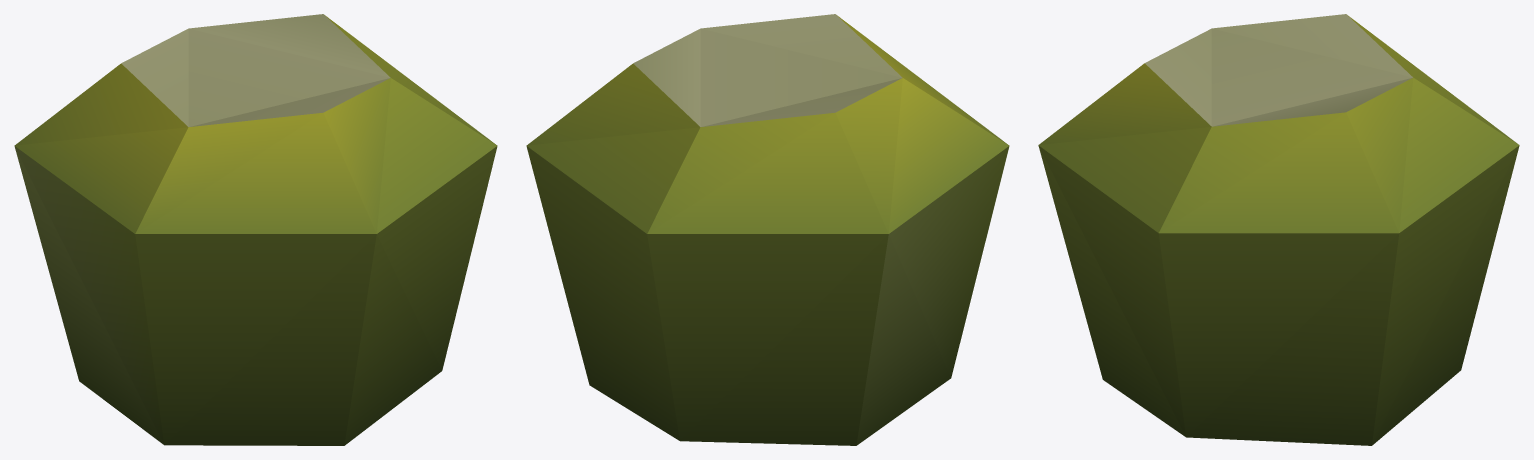
Rendered from Mixed_Cactus_09.fbx.
The picture shows the model from 3 angles, left to right: view 1: azimuth 30°, elevation 25°; view 2: azimuth 150°, elevation 25°; view 3: azimuth 270°, elevation 25°; orthographic projection.
Visible parts, largest first — view 1: Cactus_09.001; view 2: Cactus_09.001; view 3: Cactus_09.001.
Part boxes in pixels (left/top/right/bottom): Cactus_09.001: left=14, top=14, right=497, bottom=445; Cactus_09.001: left=526, top=14, right=1009, bottom=445; Cactus_09.001: left=1038, top=14, right=1519, bottom=445.
Bounding box in the file's own units: 55.68 × 46.98 × 64.3.
